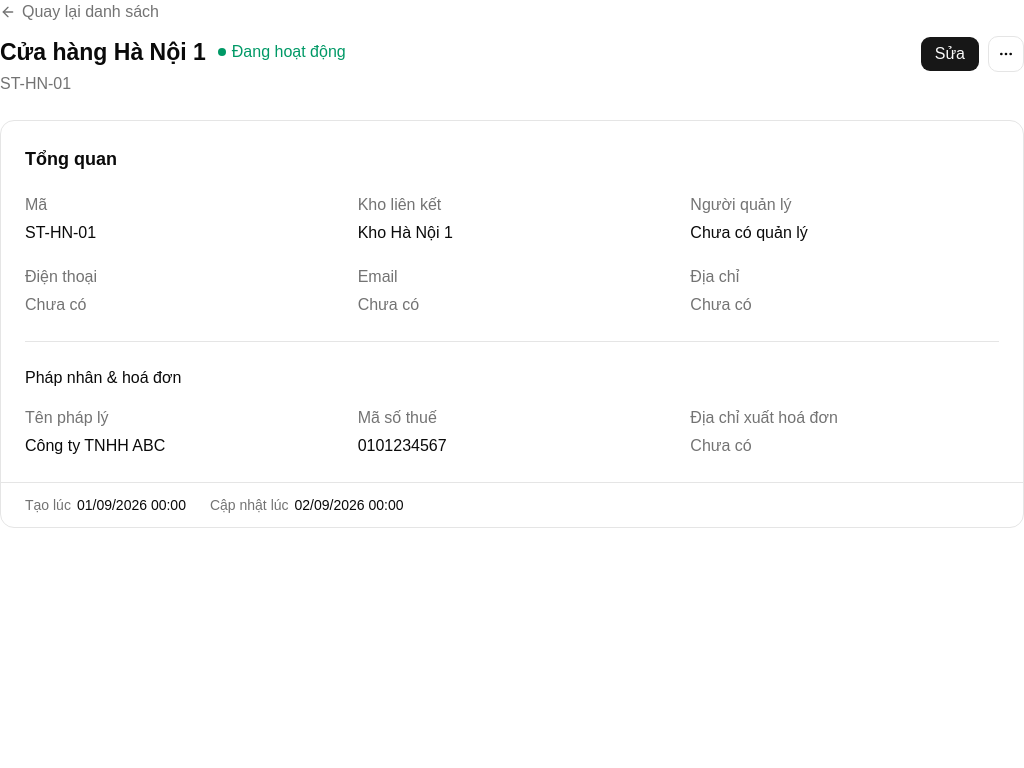
Scenario: StoreDetailPage › có quyền → Sửa mở form; lưu xong nội dung trang cập nhật tên mới, PATCH không có version
Expected: the heading "Cửa hàng Hà Nội 1" is shown, [0,36,206,68]
Step 1. Click the button "Sửa" → (950, 54), box [920,36,980,72]
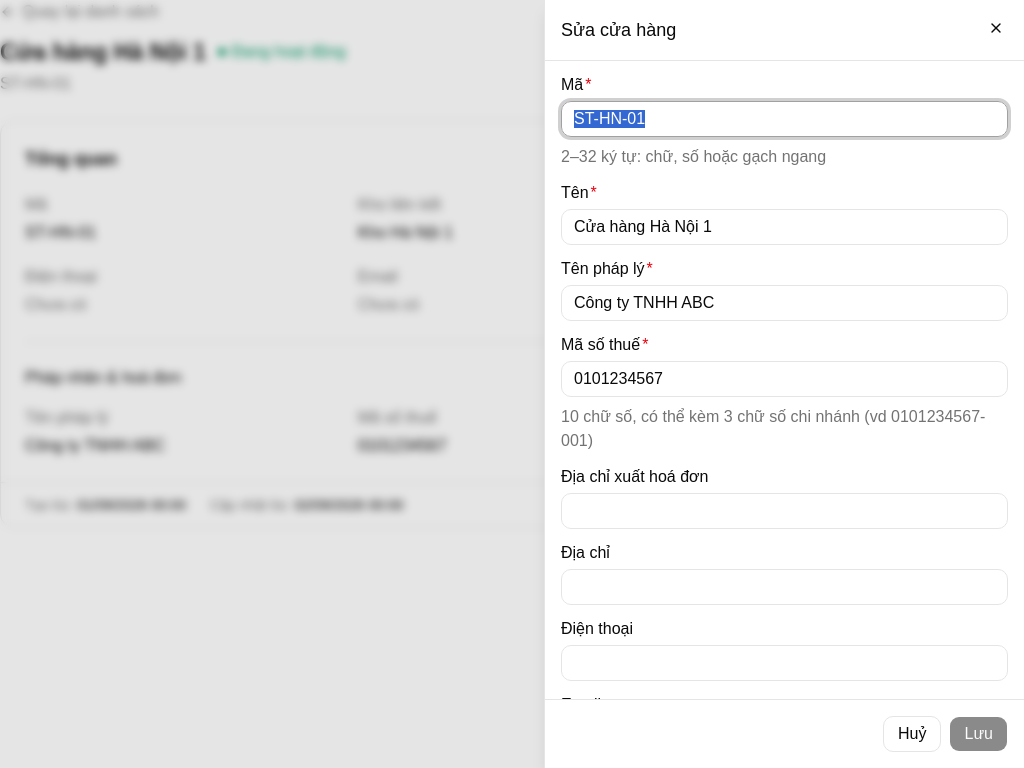
Step 2. Replace the text in the field labelled "Tên *" with "Cửa hàng Hà Nội 1B" → (784, 227), box [561,209,1008,245]
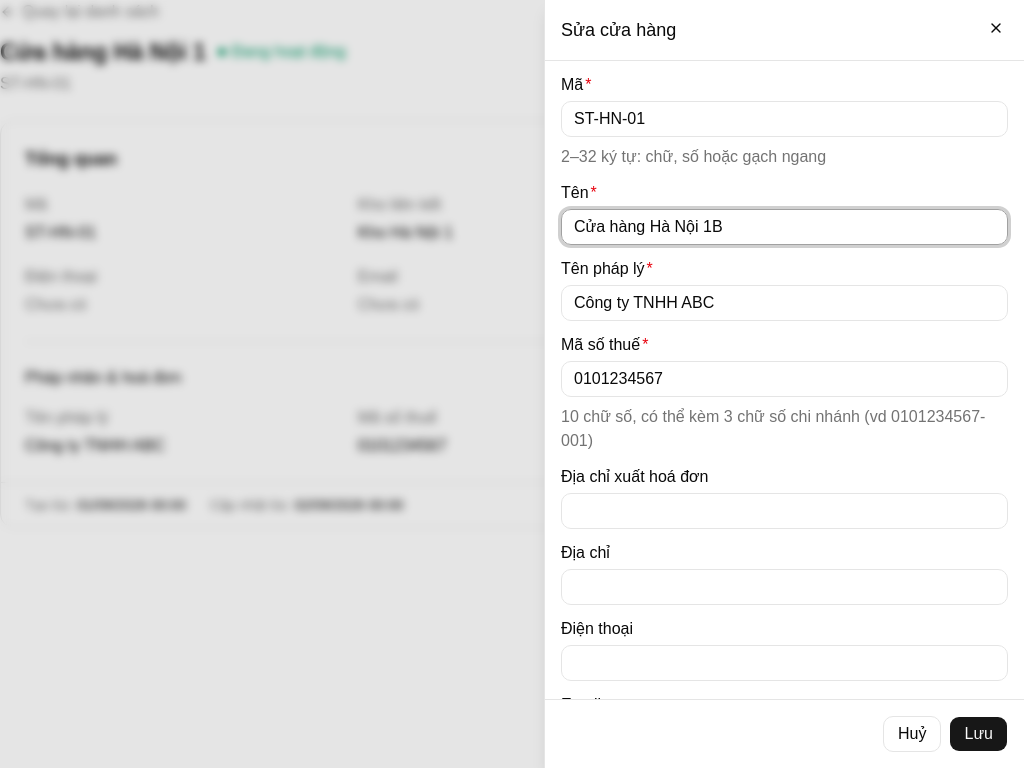
Step 3. Click the button "Lưu" → (979, 734), box [950,716,1008,752]
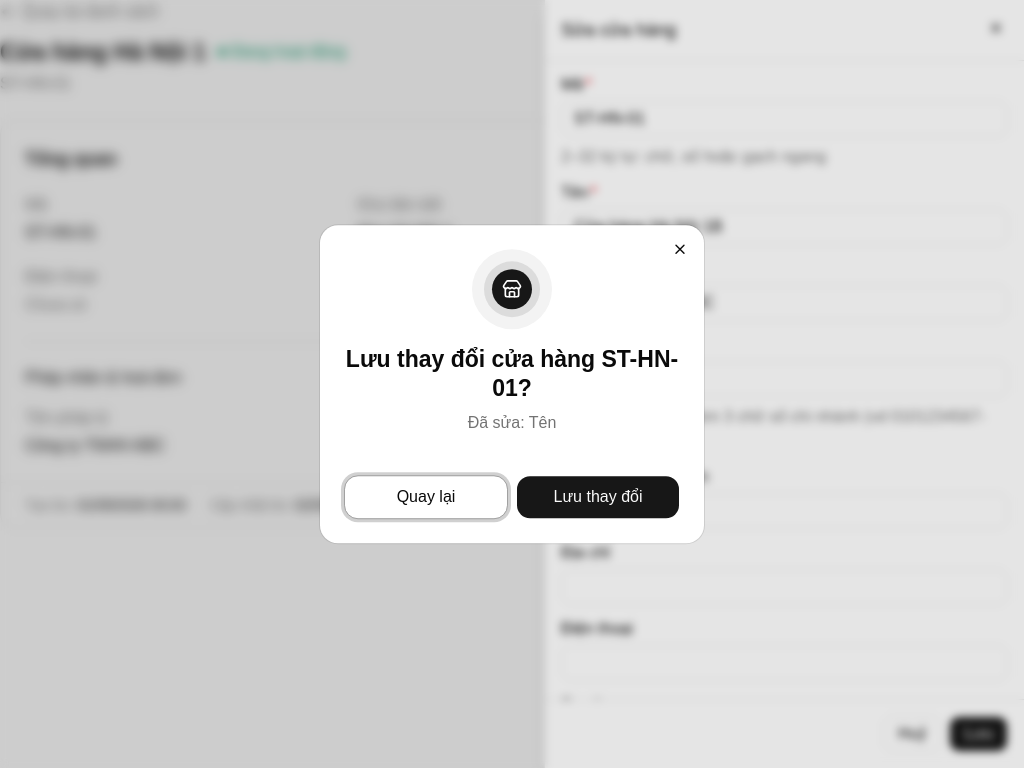
Step 4. Click the button "Lưu thay đổi" → (598, 497), box [516,475,680,519]
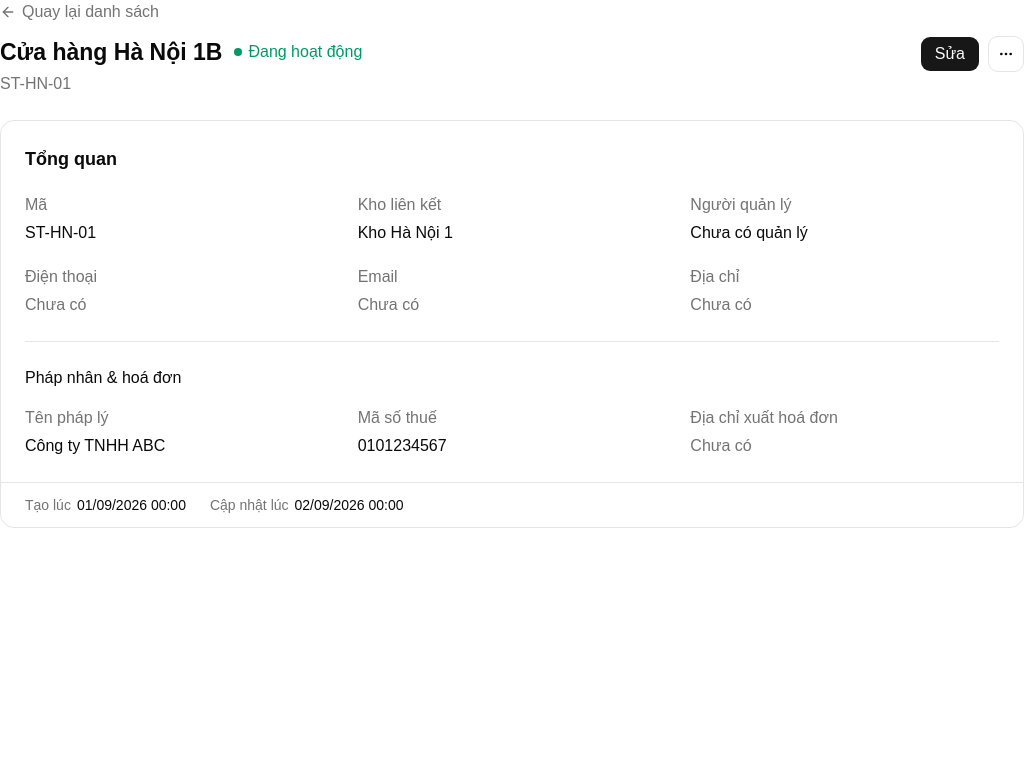
Result: the heading "Cửa hàng Hà Nội 1B" is shown at [0,36,222,68]
